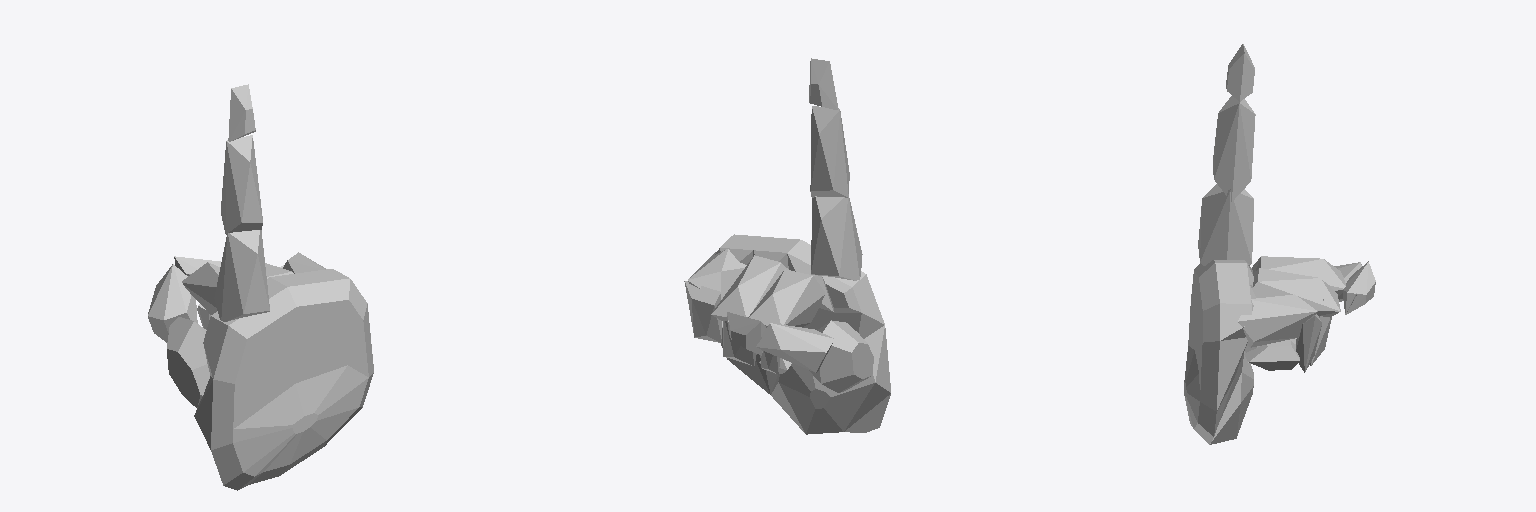
Rendered from LeftHand.obj.
3 views of the same model, side by side, from view 1: azimuth 30°, elevation 25°; view 2: azimuth 150°, elevation 25°; view 3: azimuth 270°, elevation 25° (orthographic).
Parts seen in each view (by area): view 1: group_9_ID33; view 2: group_9_ID33; view 3: group_9_ID33.
Part boxes in pixels (x1,y1,x2,y2): group_9_ID33: (148, 84, 373, 490); group_9_ID33: (684, 58, 890, 434); group_9_ID33: (1184, 44, 1375, 444).
Bounding box in the file's own units: 1.03 × 2.17 × 0.9844.